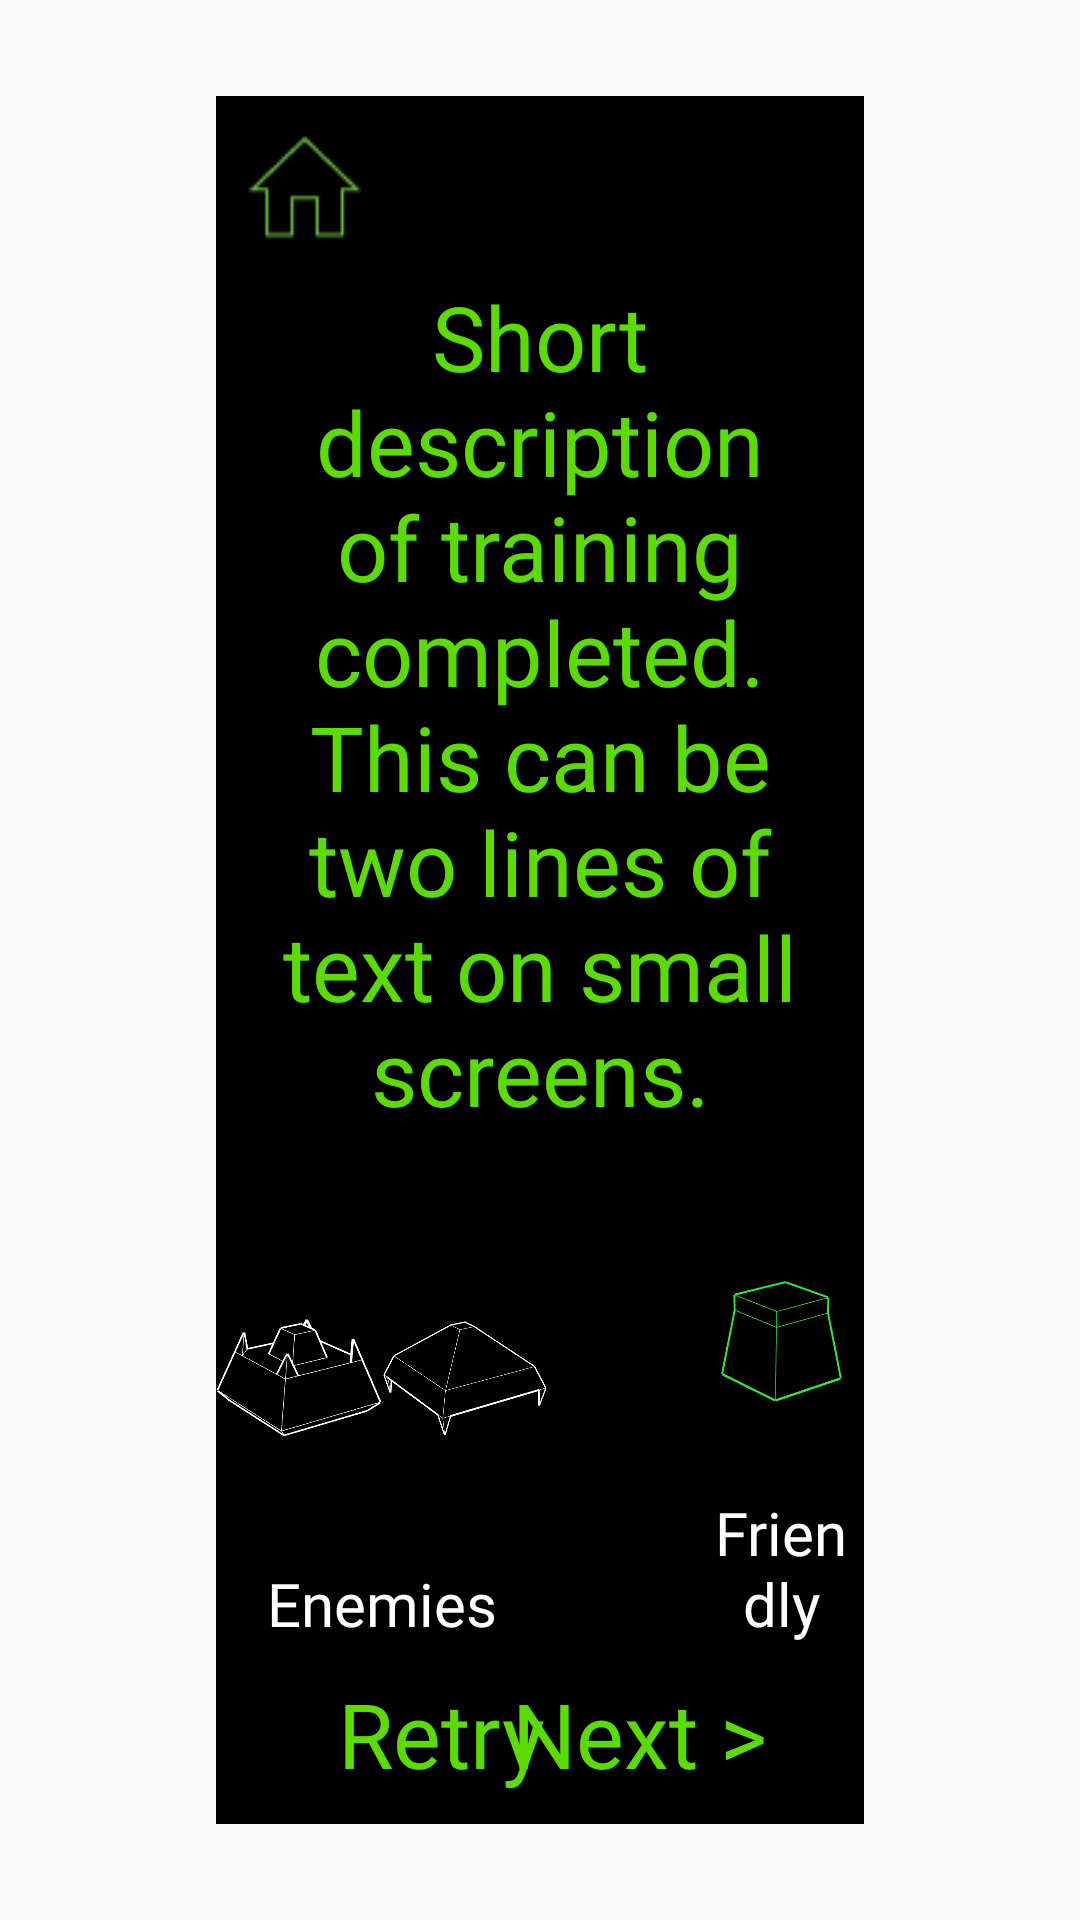

Locate icon controls on the screen. Image size 1080 × 1920, boxes as region(x1, y1, x2, y2).
home off: region(248, 136, 361, 238)
tut flying enemy: region(383, 1321, 547, 1435)
tut ground enemy: region(216, 1319, 381, 1436)
